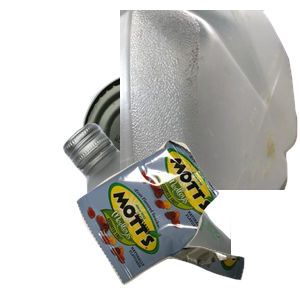glass: (60, 120, 300, 300)
metal: (80, 68, 284, 248)
plastic: (120, 10, 300, 190)
trash: (74, 137, 300, 300)
